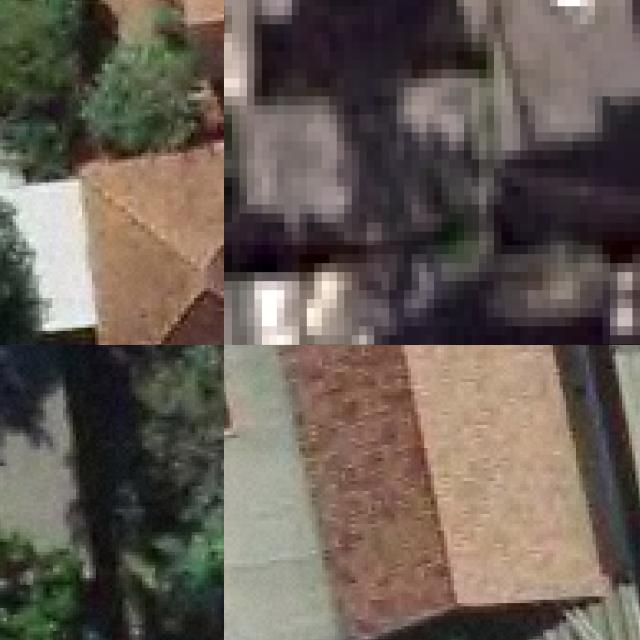trees: (1, 1, 192, 183), (127, 346, 225, 640)
